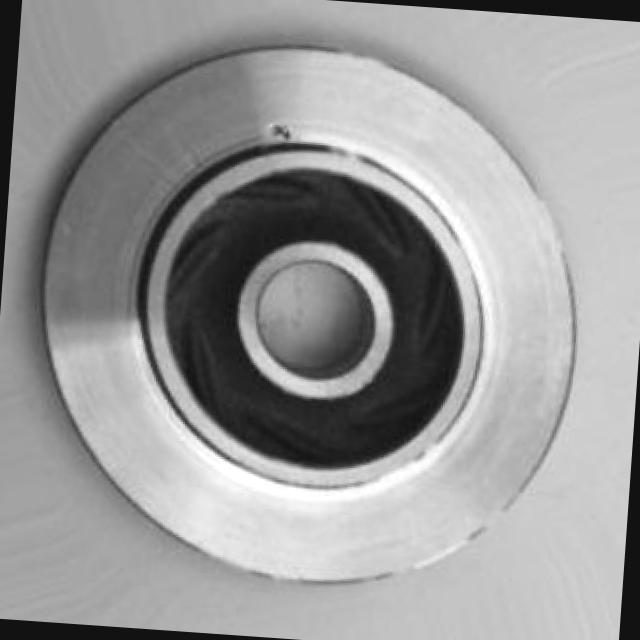Defect: (271, 119, 298, 143)
